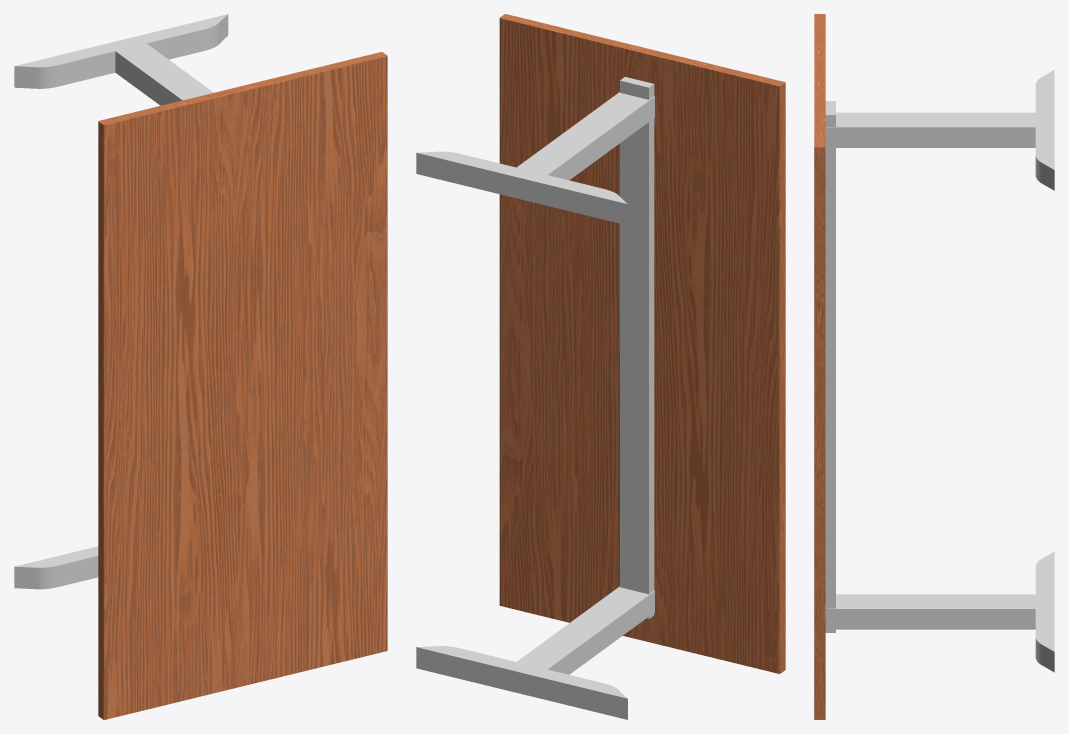
File: table.glb
3 renders of one model, left to right at view 1: azimuth 30°, elevation 25°; view 2: azimuth 150°, elevation 25°; view 3: azimuth 270°, elevation 25°, orthographic. The views are drawn at different scales.
Parts seen in each view (by area): view 1: tabletop.026, tableleg.001, tableleg.002; view 2: tabletop.026, tableleg.026, tableleg.002, tableleg.001; view 3: tableleg.002, tableleg.001, tabletop.026, tableleg.026.
Part boxes in pixels (bbox=[...]): tabletop.026: bbox=[98, 52, 387, 719]; tableleg.001: bbox=[14, 14, 228, 105]; tableleg.002: bbox=[14, 546, 98, 589]; tabletop.026: bbox=[499, 14, 785, 673]; tableleg.026: bbox=[620, 77, 654, 618]; tableleg.002: bbox=[416, 586, 654, 719]; tableleg.001: bbox=[416, 92, 654, 225]; tableleg.002: bbox=[826, 551, 1054, 672]; tableleg.001: bbox=[826, 70, 1054, 190]; tabletop.026: bbox=[814, 14, 825, 719]; tableleg.026: bbox=[825, 101, 835, 632].
Bounding box in the file's own units: 0.6909 × 1.38 × 0.5255.
Materials: 2 (1 with a texture image).
